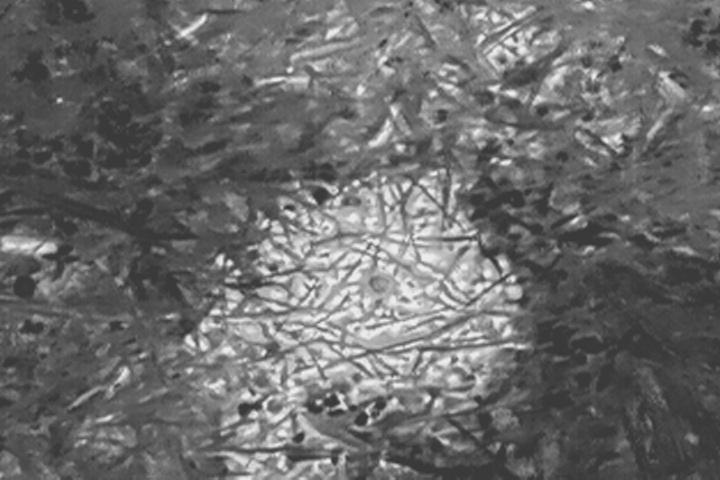landmine: (262, 183, 514, 416)
